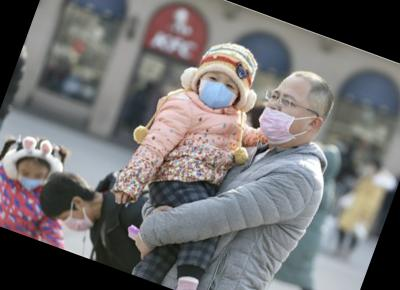mask_weared_incorrect: (249, 84, 319, 157)
with_mask: (191, 68, 245, 116), (55, 206, 99, 239), (13, 162, 49, 195)
